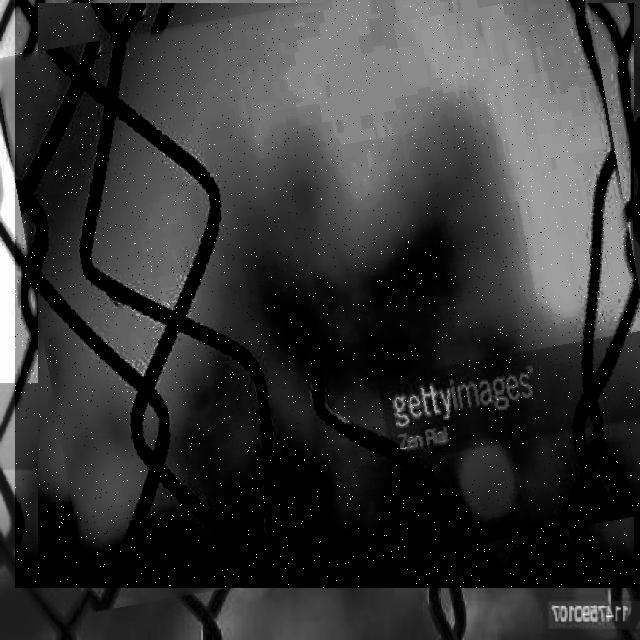anomaly-fence: (15, 0, 640, 588)
